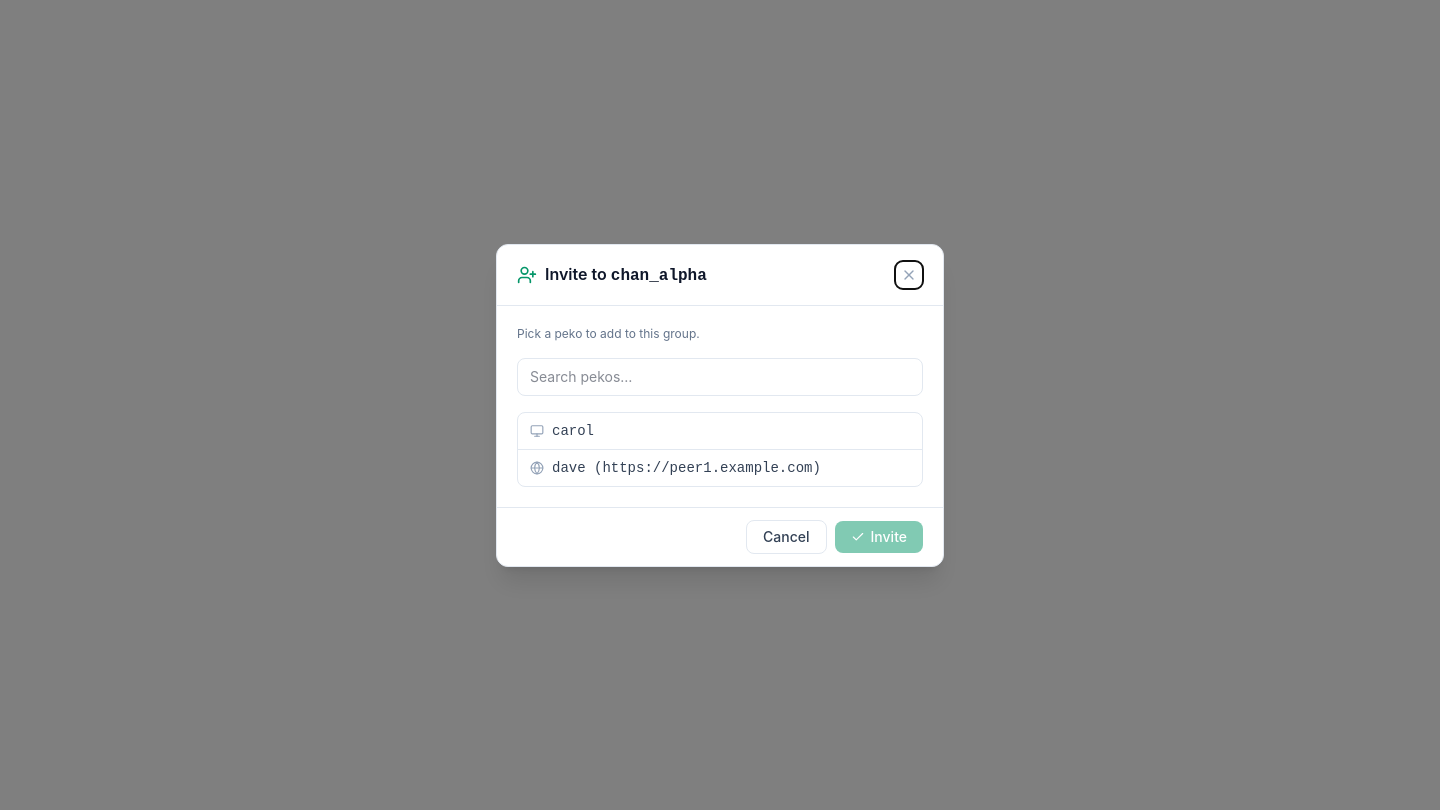
ChannelInviteModal › filters the candidate list by the search query
Type "car" into the field with test id "channel-invite-search" at (720, 376), box [517,358,923,396]
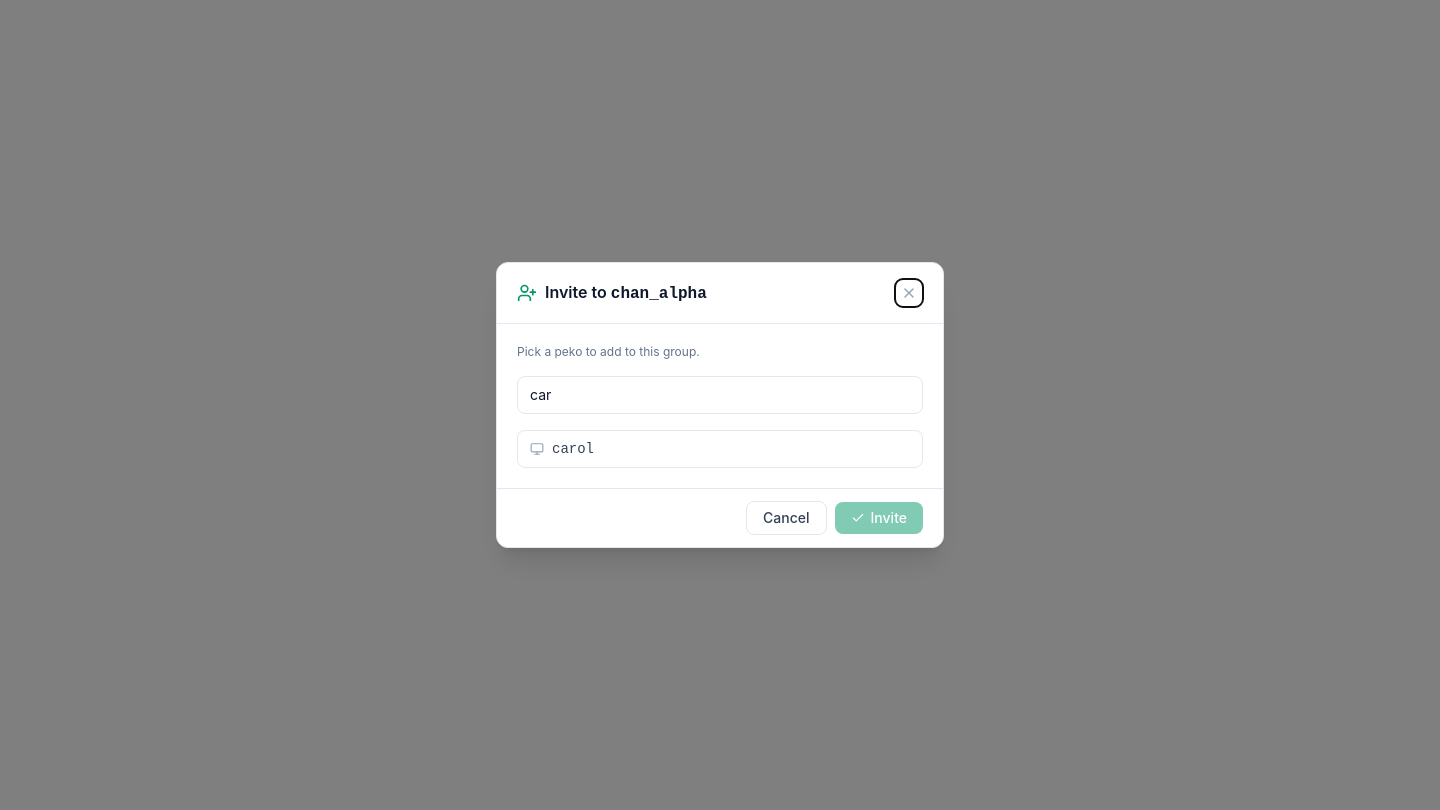
Check: the button with test id "channel-invite-row-carol" is shown, box [518,431,922,467]
Check: the button with test id "channel-invite-row-dave@peer-1" is gone
